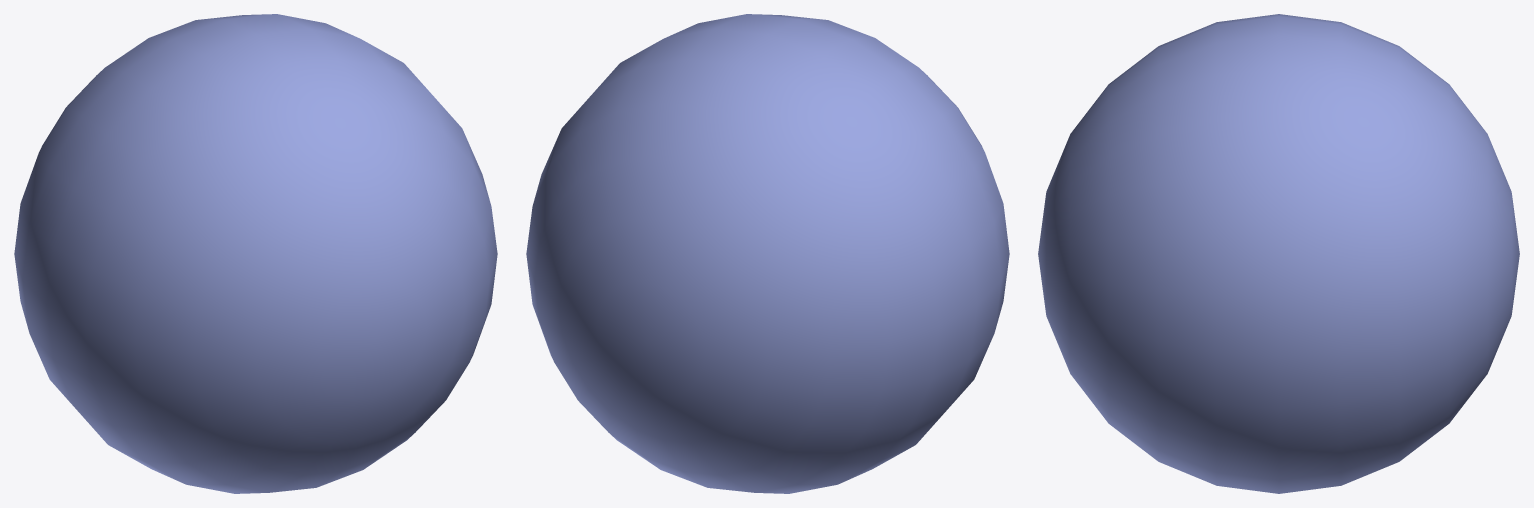
The model's file is Earth + Clouds.FBX.
3 renders of one model, left to right at view 1: azimuth 30°, elevation 25°; view 2: azimuth 150°, elevation 25°; view 3: azimuth 270°, elevation 25°, orthographic.
Visible parts, largest first — view 1: Clouds_low; view 2: Clouds_low; view 3: Clouds_low.
Boxes of the visible parts, x1,y1,x2,y2 form: Clouds_low: (14,14,497,493); Clouds_low: (526,14,1009,493); Clouds_low: (1038,14,1519,493).
Size of the model in its own units: 220 by 220 by 220.
